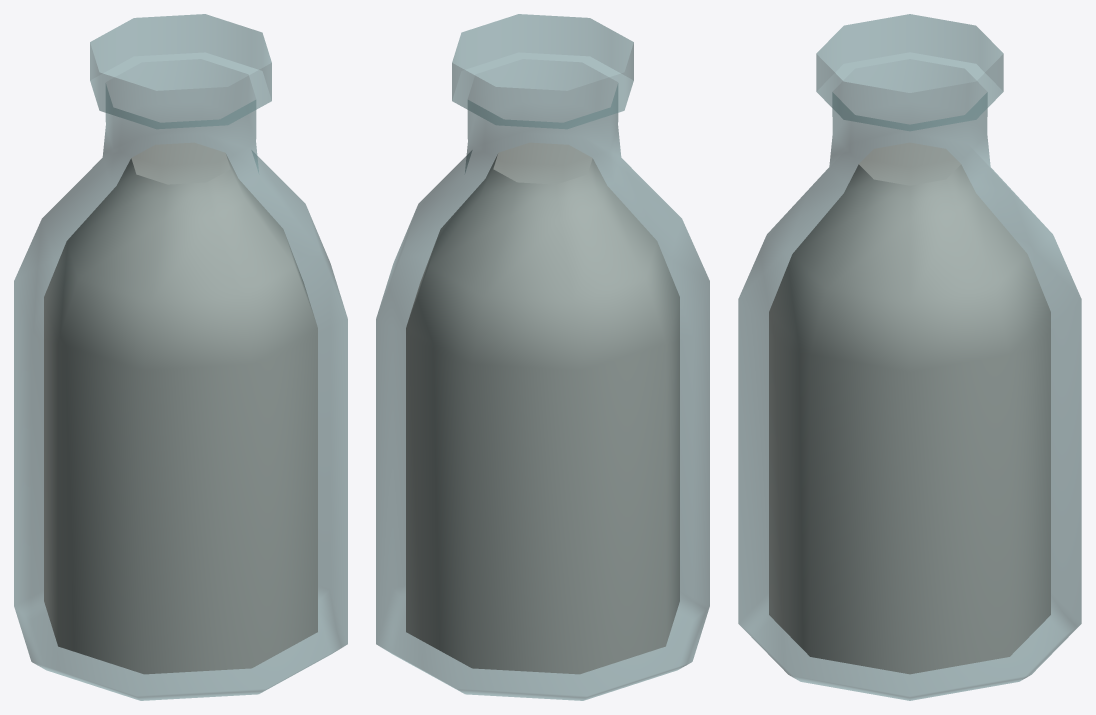
File: SM_MilkBottle.fbx
The picture shows the model from 3 angles, left to right: view 1: azimuth 30°, elevation 25°; view 2: azimuth 150°, elevation 25°; view 3: azimuth 270°, elevation 25°; orthographic projection.
Visible parts, largest first — view 1: SM_MilkBottle, SM_Milk; view 2: SM_MilkBottle, SM_Milk; view 3: SM_MilkBottle, SM_Milk.
Boxes of the visible parts, x1,y1,x2,y2 form: SM_MilkBottle: [14, 14, 347, 700]; SM_Milk: [44, 142, 317, 674]; SM_MilkBottle: [376, 14, 709, 700]; SM_Milk: [406, 142, 679, 674]; SM_MilkBottle: [738, 14, 1081, 700]; SM_Milk: [769, 142, 1050, 674].
Bounding box in the file's own units: 40.33 × 75.37 × 40.33.
